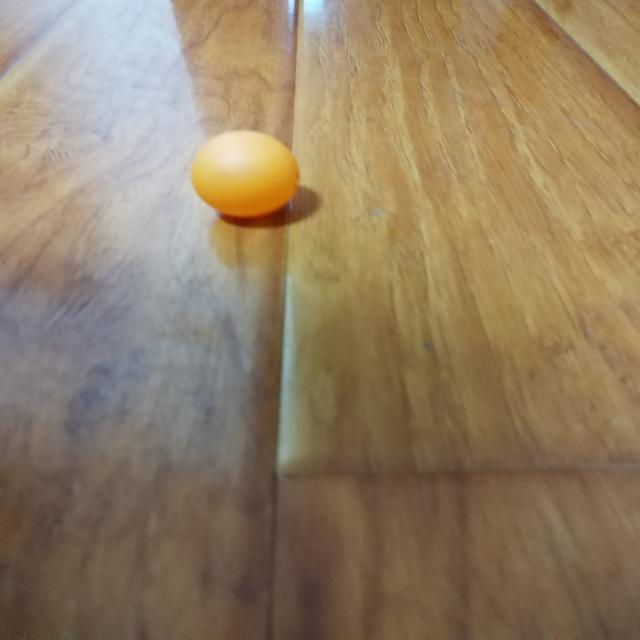oball: (191, 132, 299, 217)
